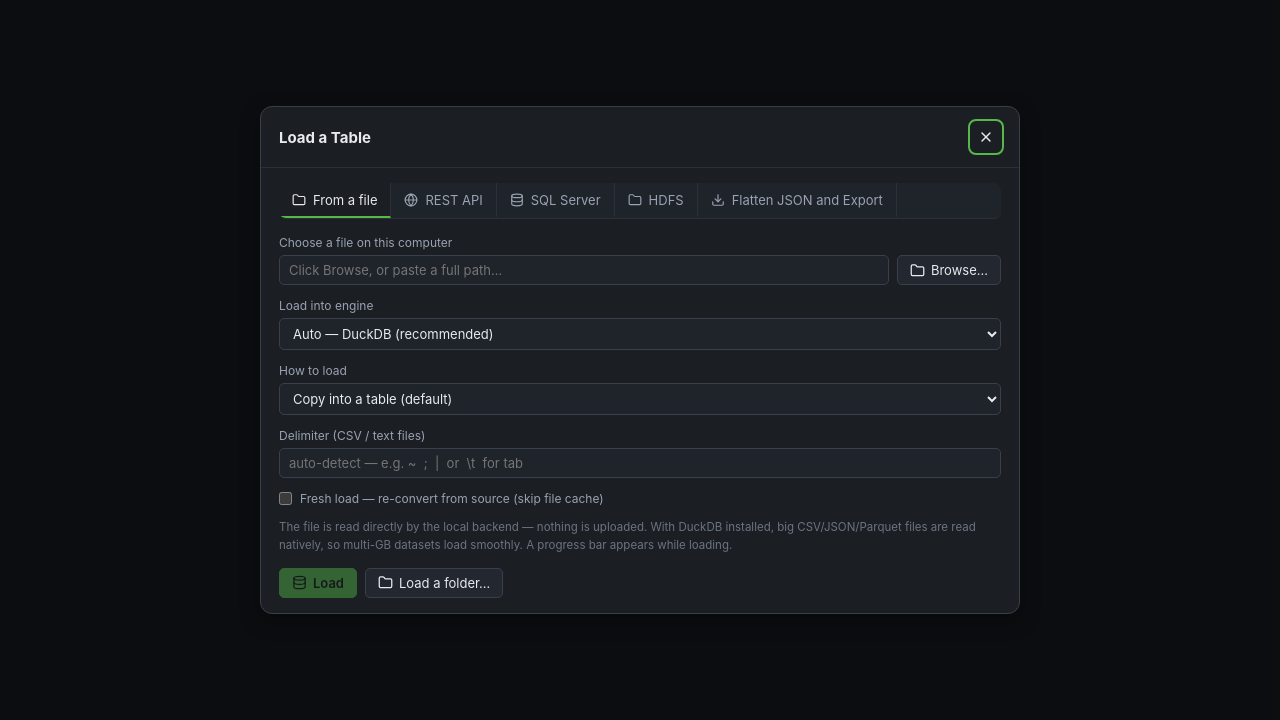
LoadDataModal source tabs › renders each extracted source form through the shared shell
Check: the text "Choose a file on this computer" is shown, box [279,235,452,250]
Click the button "REST API" at (444,201), box [392,183,497,218]
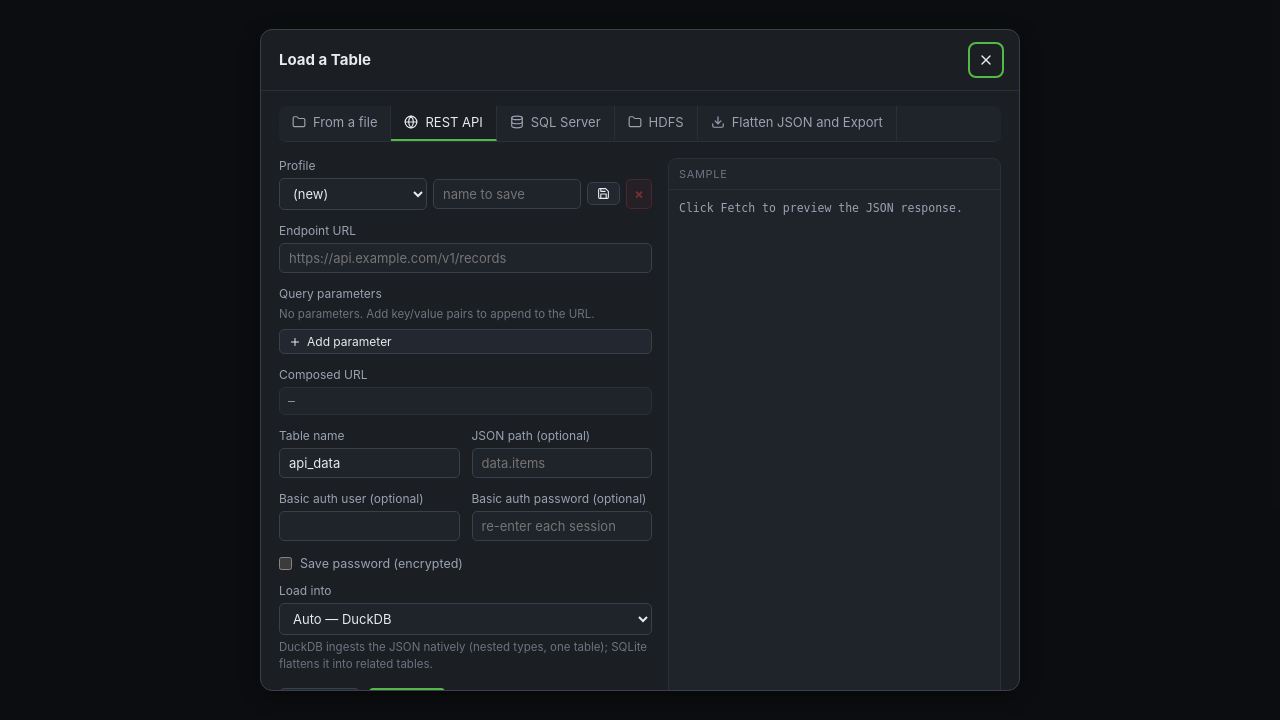
Check: the text "Endpoint URL" is shown, box [279,223,356,238]
Click the button "SQL Server" at (556,123), box [497,106,615,141]
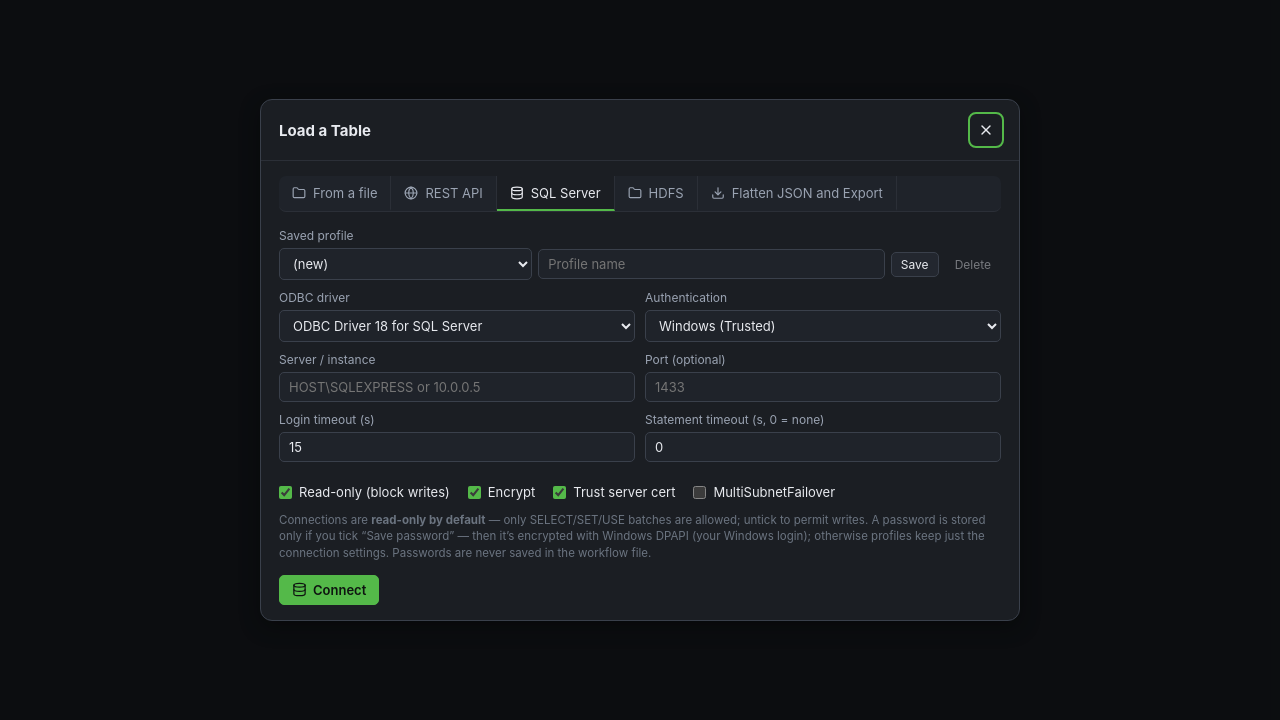
Check: the text "Saved profile" is shown, box [279,228,354,243]
Click the button "HDFS" at (656,194), box [615,176,698,211]
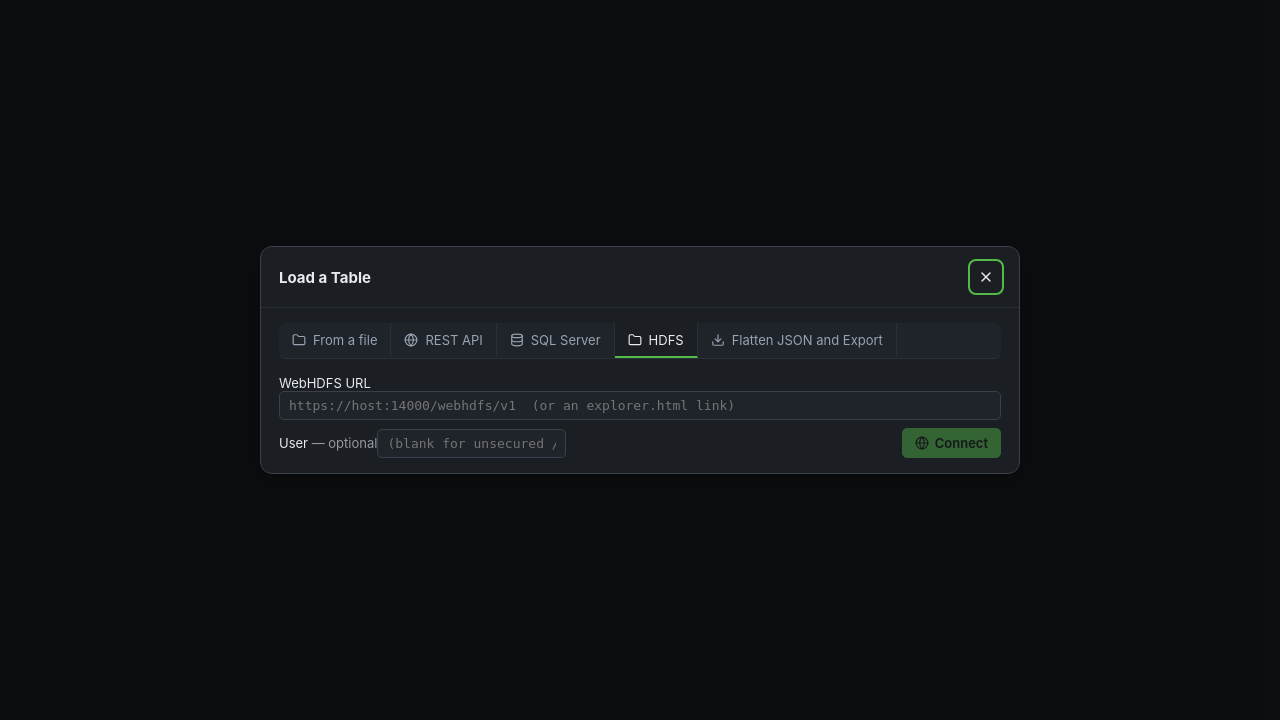
Check: the text "WebHDFS URL" is shown, box [279,375,371,391]
Click the button "Flatten JSON and Export" at (797,340), box [698,323,897,358]
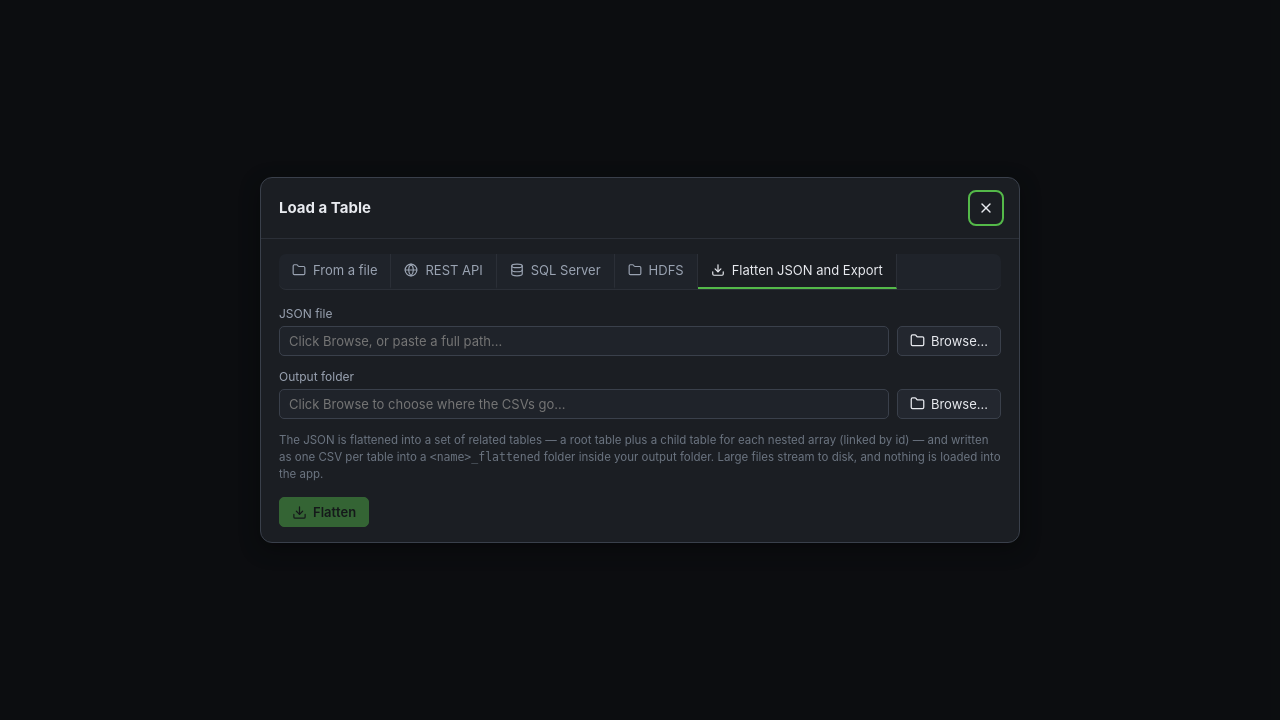
Check: the text "JSON file" is shown, box [279,306,332,321]
Check: the text "Output folder" is shown, box [279,369,354,384]
